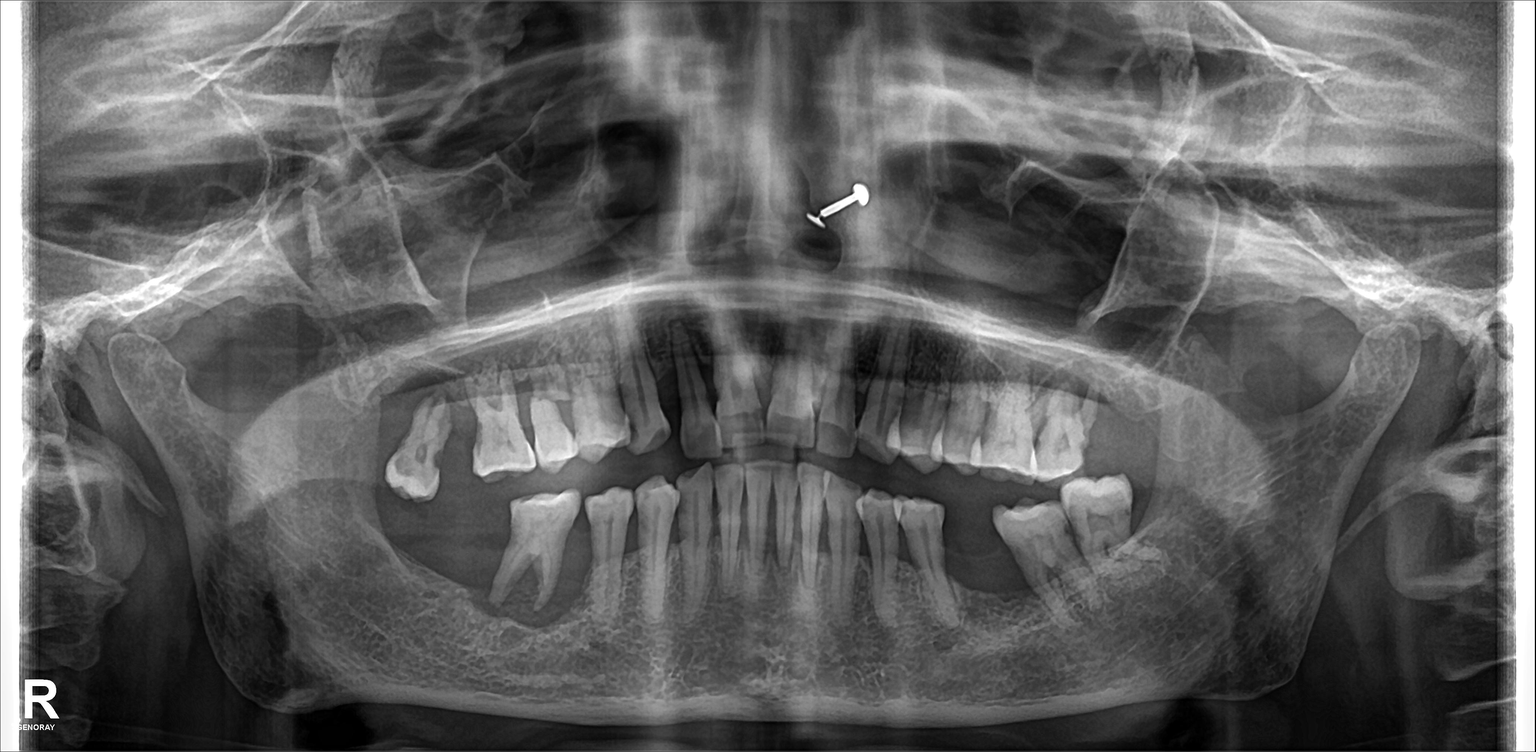Missing Tooth: (946, 516, 1003, 609), (1099, 387, 1149, 472), (413, 516, 453, 597), (439, 395, 478, 474), (372, 506, 410, 585), (363, 387, 398, 472), (469, 516, 499, 600)
